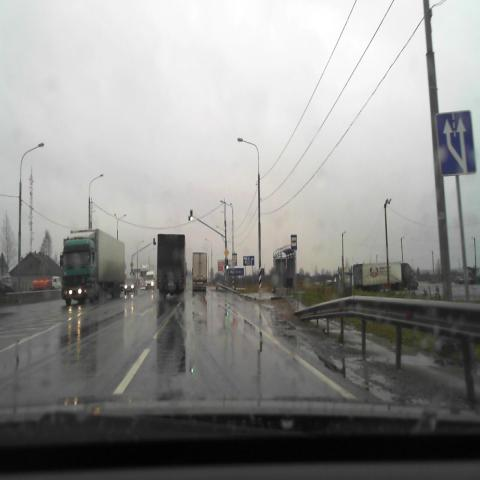5_15_3: (436, 111, 476, 176)
